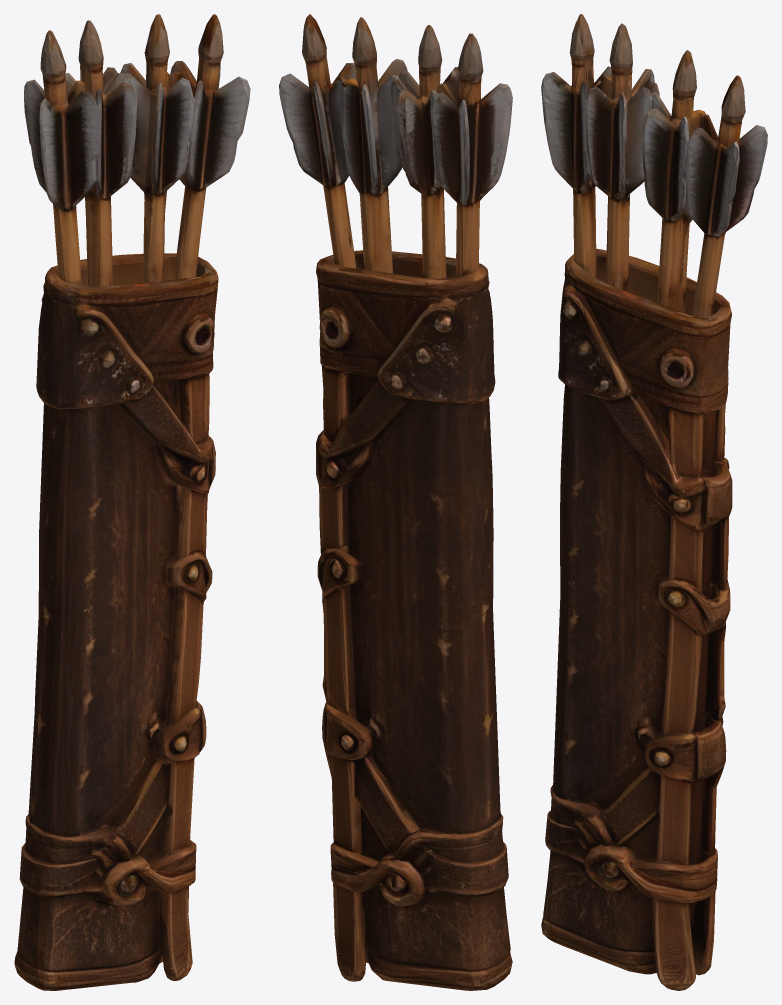
The model's file is quiver-bolts.glb.
The picture shows the model from 3 angles, left to right: view 1: azimuth 30°, elevation 25°; view 2: azimuth 150°, elevation 25°; view 3: azimuth 330°, elevation 25°; orthographic projection. The views are drawn at different scales.
Parts seen in each view (by area): view 1: quiver-bolts; view 2: quiver-bolts; view 3: quiver-bolts.
Boxes of the visible parts, <box> form: quiver-bolts: <box>14,14,250,990</box>; quiver-bolts: <box>279,14,512,990</box>; quiver-bolts: <box>541,14,767,990</box>.
Bounding box in the file's own units: 0.1415 × 0.6196 × 0.0641.
Materials: 1 (1 with a texture image).
